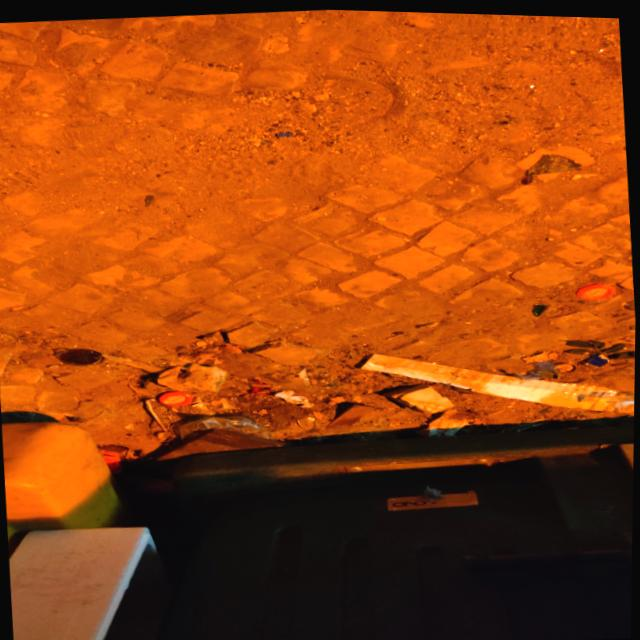Can-Metal: (47, 340, 117, 370), (152, 386, 199, 408)
Paper: (138, 391, 175, 439)
Plastic: (348, 322, 636, 431), (173, 404, 276, 445), (269, 383, 317, 407)
